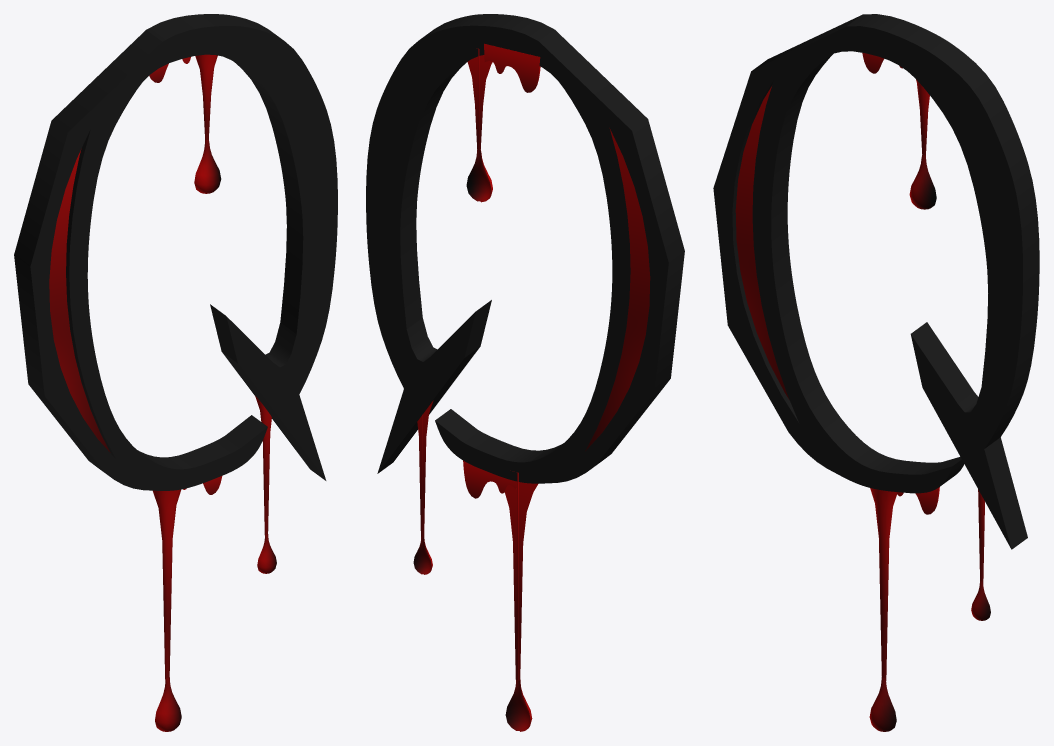
3 renders of one model, left to right at view 1: azimuth 30°, elevation 25°; view 2: azimuth 150°, elevation 25°; view 3: azimuth 330°, elevation 25°, orthographic. The views are drawn at different scales.
Visible parts, largest first — view 1: Q, Q_Element, Blood_391, Blood_384, Blood_388; view 2: Q, Q_Element, Blood_391, Blood_384, Blood_395, Blood_388, Blood_389; view 3: Q, Q_Element, Blood_391, Blood_384, Blood_388.
Boxes of the visible parts, <box> form: Q: <box>14,14,337,490</box>; Q_Element: <box>49,149,110,452</box>; Blood_391: <box>153,489,181,731</box>; Blood_384: <box>194,54,221,193</box>; Blood_388: <box>255,396,276,573</box>; Q: <box>366,14,684,483</box>; Q_Element: <box>585,128,650,451</box>; Blood_391: <box>504,472,538,731</box>; Blood_384: <box>466,48,492,202</box>; Blood_395: <box>484,43,540,92</box>; Blood_388: <box>413,400,433,574</box>; Blood_389: <box>463,460,516,498</box>; Q: <box>713,14,1039,549</box>; Q_Element: <box>735,86,789,399</box>; Blood_391: <box>869,488,896,731</box>; Blood_384: <box>909,79,936,209</box>; Blood_388: <box>971,489,990,620</box>.
Bounding box in the file's own units: 54.34 × 120 × 5.05.
Materials: 2 (1 with a texture image).
